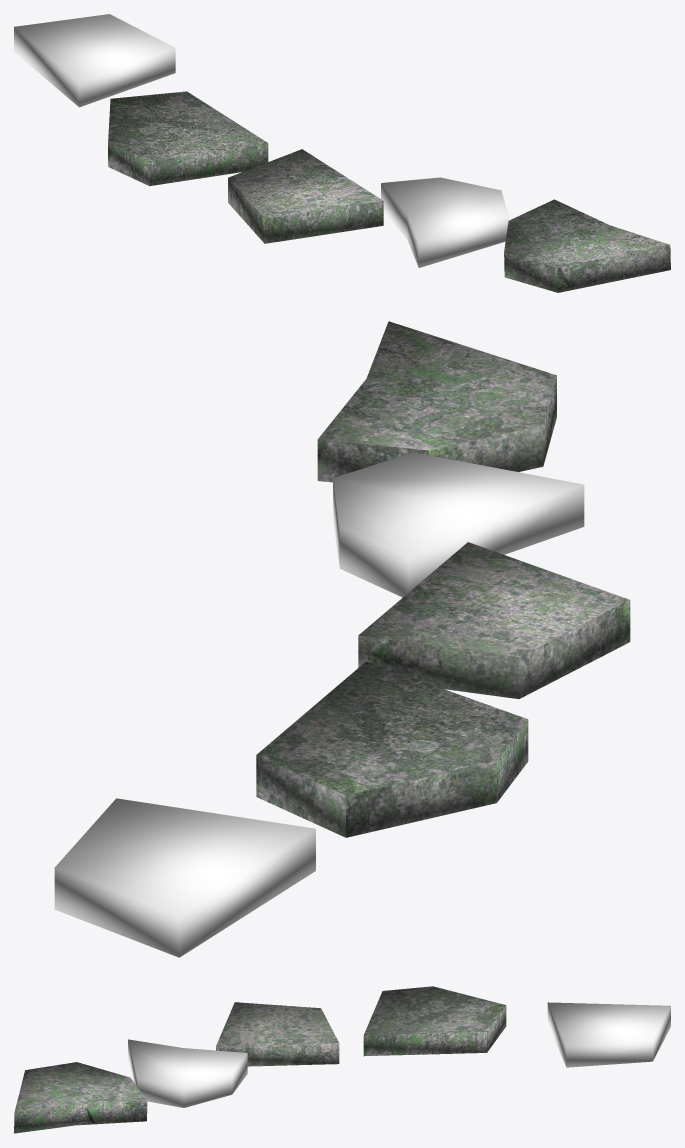
The model's file is graden_stones_d.glb.
3 renders of one model, top to bottom at view 1: azimuth 30°, elevation 25°; view 2: azimuth 150°, elevation 25°; view 3: azimuth 270°, elevation 25°, orthographic. The views are drawn at different scales.
Parts seen in each view (by area): view 1: rock_gray.jpg__, city_rock.jpg__; view 2: rock_gray.jpg__, city_rock.jpg__; view 3: rock_gray.jpg__, city_rock.jpg__.
Boxes of the visible parts, left/top/right/bottom form: rock_gray.jpg__: left=108, top=91, right=670, bottom=292; city_rock.jpg__: left=14, top=14, right=508, bottom=267; rock_gray.jpg__: left=256, top=321, right=630, bottom=837; city_rock.jpg__: left=54, top=452, right=584, bottom=957; rock_gray.jpg__: left=14, top=986, right=506, bottom=1133; city_rock.jpg__: left=128, top=1002, right=670, bottom=1107.
Size of the model in its own units: 5.24 by 0.4595 by 11.31.
Materials: 2 (1 with a texture image).
